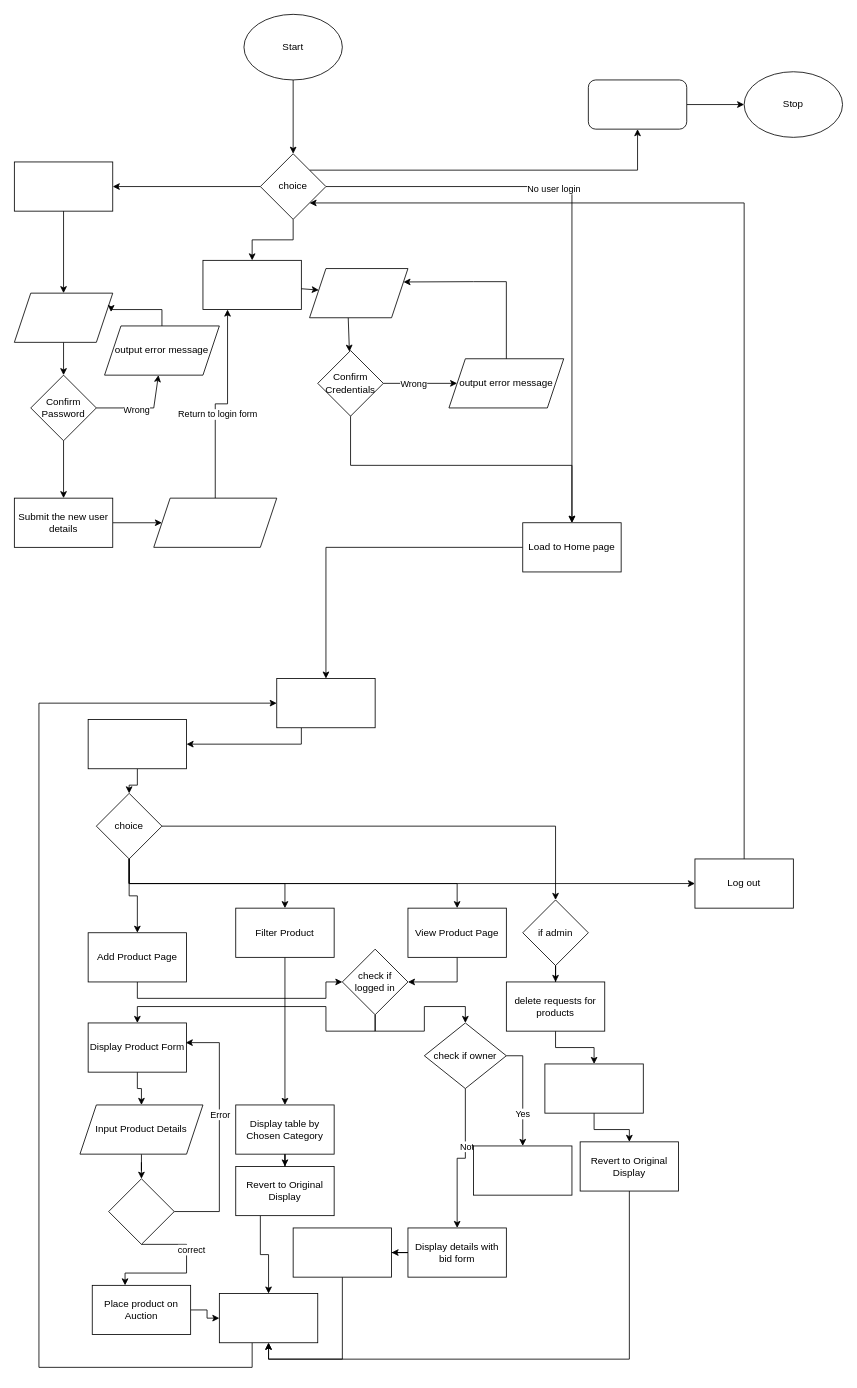
Some shapes in this 857 by 1388 pixel diagram are drawn without their labels. The shapes that lost their labels are listed below. From the top down, each one's centre as x and y in pixels, then its label:
the point at 637,104: Exit web page
the point at 63,186: Display Register Form
the point at 251,285: Display Login form
the point at 358,293: Input Credentials
the point at 63,317: Input User Details
the point at 215,522: Output Succeesfull registration message
the point at 325,703: Display Home Page
the point at 137,744: Menu display button
the point at 593,1088: display of table for delete requests
the point at 522,1170: Display details without bid form
the point at 141,1211: Confirm Product Details
the point at 342,1252: Submit Bid
the point at 268,1318: Back to Homepage
